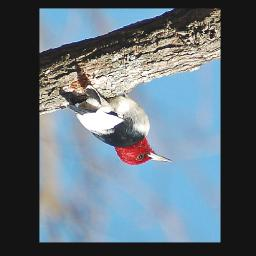Woodpecker: (66, 83, 175, 166)
